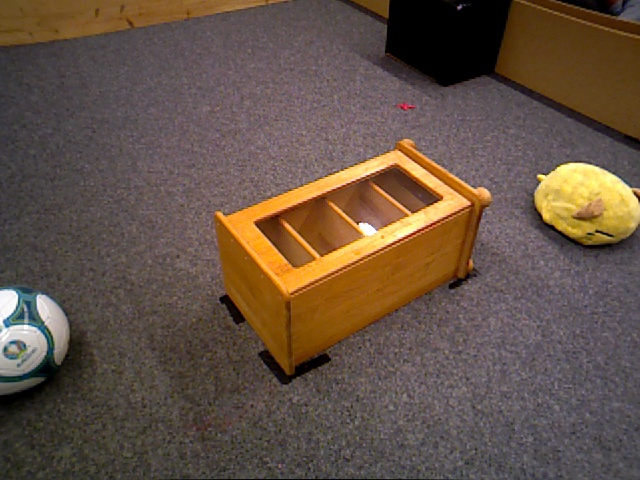grasp: (534, 161, 640, 249)
kick: (1, 286, 69, 400)
push: (388, 2, 513, 86)
